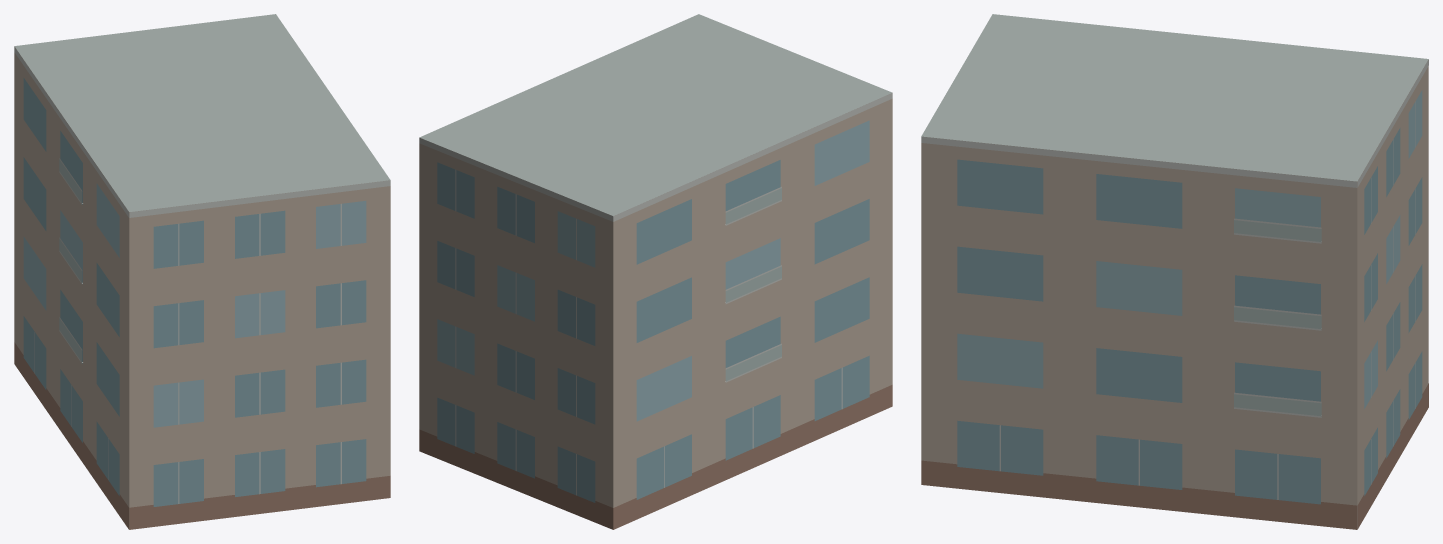
The model's file is survey-upis-32821539.glb.
3 views of the same model, side by side, from view 1: azimuth 30°, elevation 25°; view 2: azimuth 150°, elevation 25°; view 3: azimuth 270°, elevation 25° (orthographic). The views are drawn at different scales.
Visible parts, largest first — view 1: survey-upis-32821539.tmp; view 2: survey-upis-32821539.tmp; view 3: survey-upis-32821539.tmp.
Part boxes in pixels (x1=…): survey-upis-32821539.tmp: x1=14, y1=14, x2=390, y2=529; survey-upis-32821539.tmp: x1=419, y1=14, x2=892, y2=529; survey-upis-32821539.tmp: x1=921, y1=14, x2=1428, y2=529.
Bounding box in the file's own units: 13.68 × 13.25 × 17.51.
